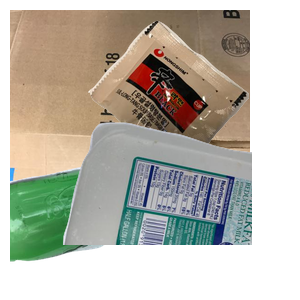cardboard: (10, 10, 250, 190)
glass: (10, 149, 203, 300)
plastic: (60, 120, 300, 300)
trash: (86, 18, 300, 194)
